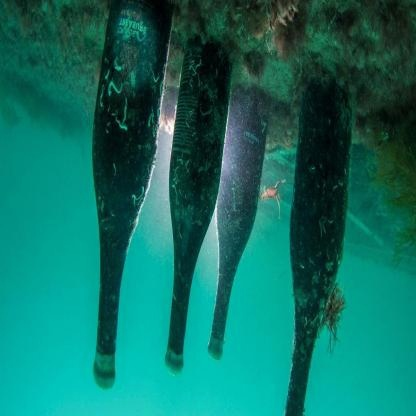gbottle: (91, 1, 174, 388), (284, 76, 353, 416), (166, 35, 234, 374), (207, 94, 268, 361)
